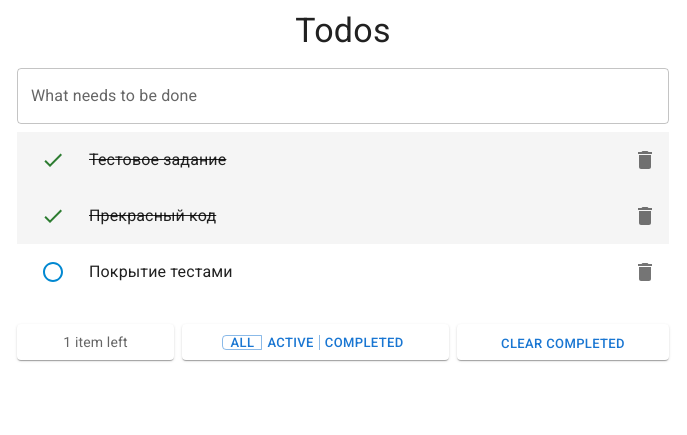
Test case: renders the App
The image size is (687, 435).
Type "New Todo Item" into the field labelled "What needs to be done". click: (343,96)
box: [17,68,669,124]
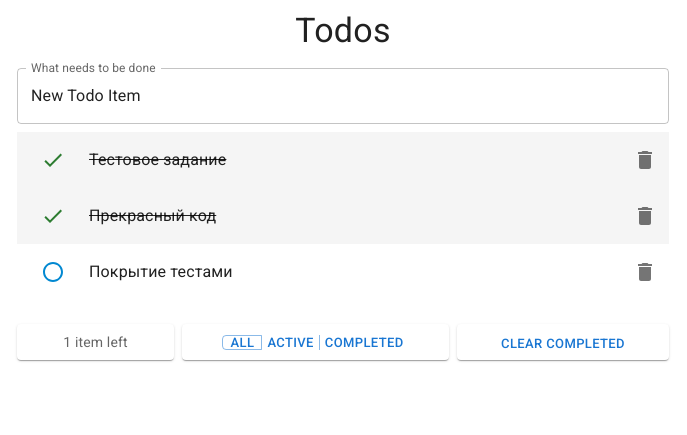
Press Enter in the field labelled "What needs to be done", box [17,68,669,124]
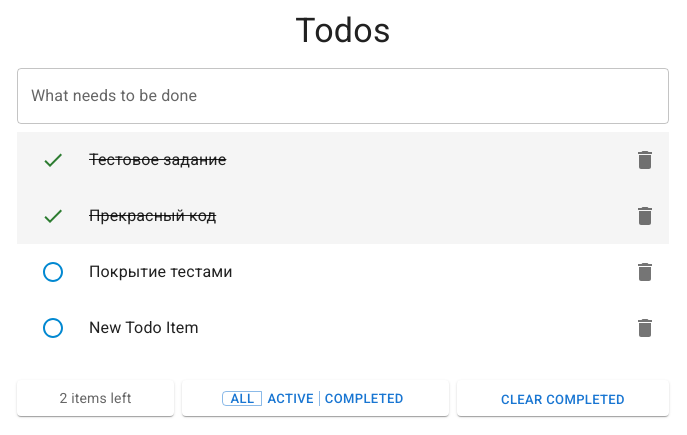
Result: the text "New Todo Item" is shown at [89,318,199,337]
